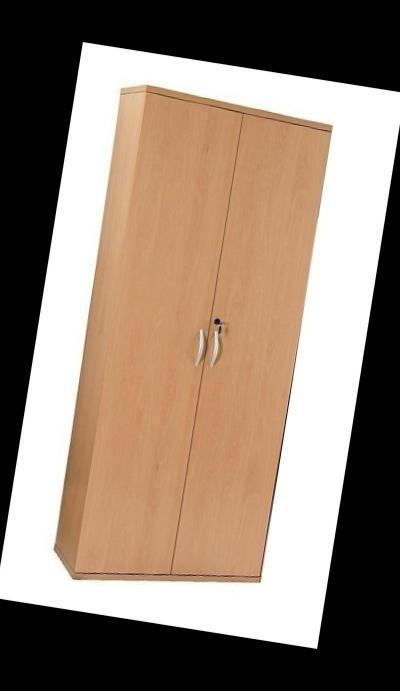Armario: (42, 78, 342, 605)
